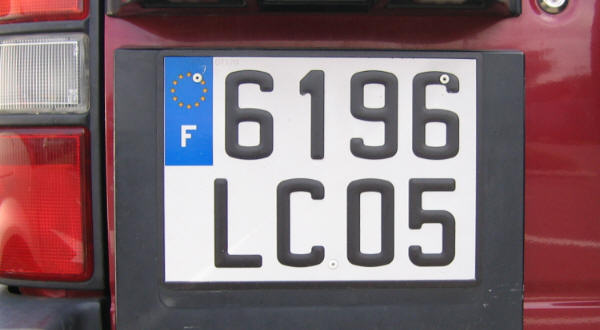license_plate: (157, 49, 483, 288)
